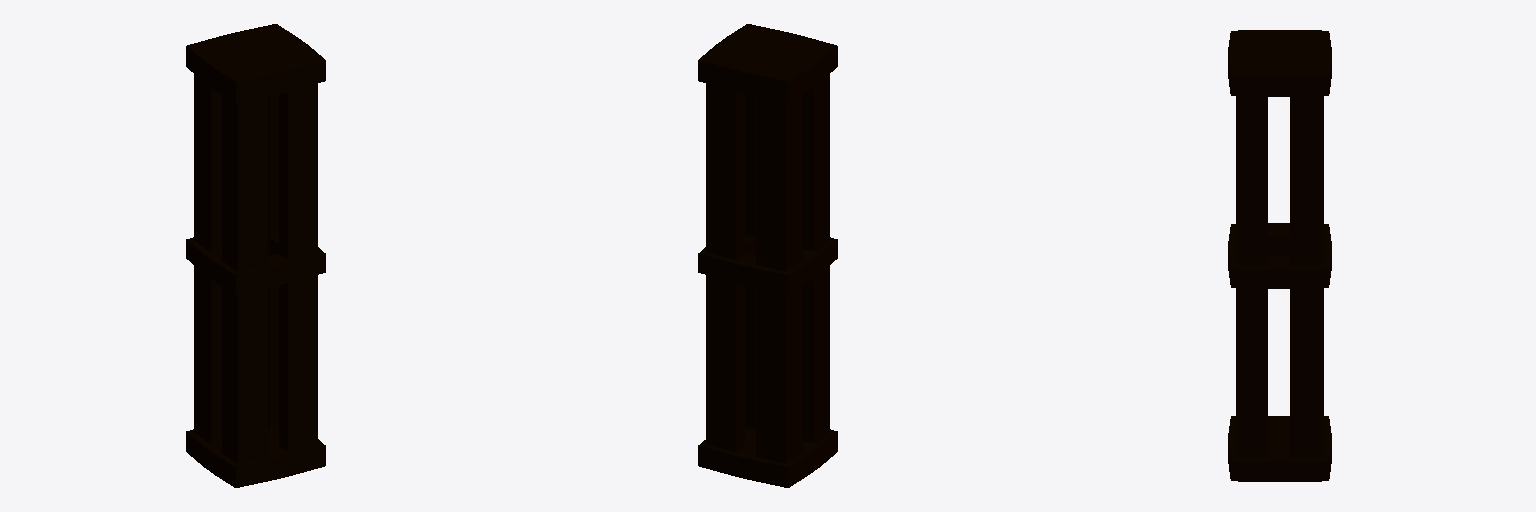
Rendered from pillar_metal.obj.
3 views of the same model, side by side, from view 1: azimuth 30°, elevation 25°; view 2: azimuth 150°, elevation 25°; view 3: azimuth 270°, elevation 25° (orthographic).
Visible parts, largest first — view 1: pillar_metal; view 2: pillar_metal; view 3: pillar_metal.
Part boxes in pixels (x1,y1,x2,y2): pillar_metal: (186,24,325,487); pillar_metal: (698,24,837,487); pillar_metal: (1228,30,1331,481).
Size of the model in its own units: 0.7253 by 3 by 0.6888.